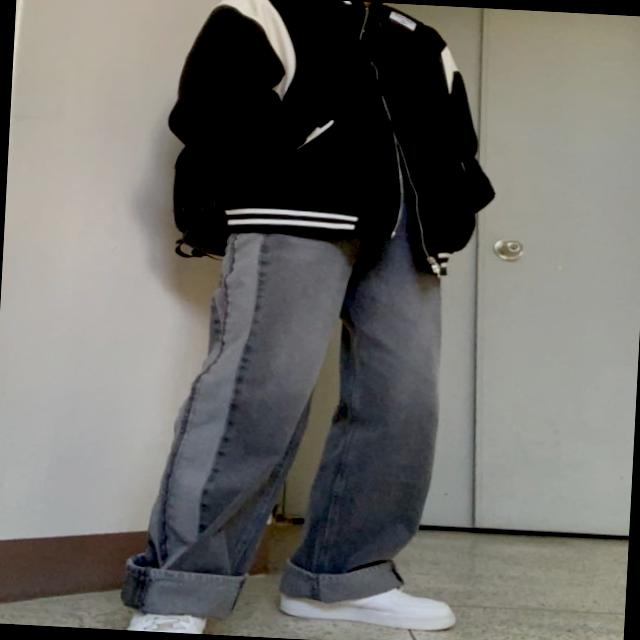denimpants: (124, 192, 448, 629)
jacket: (159, 0, 501, 270)
